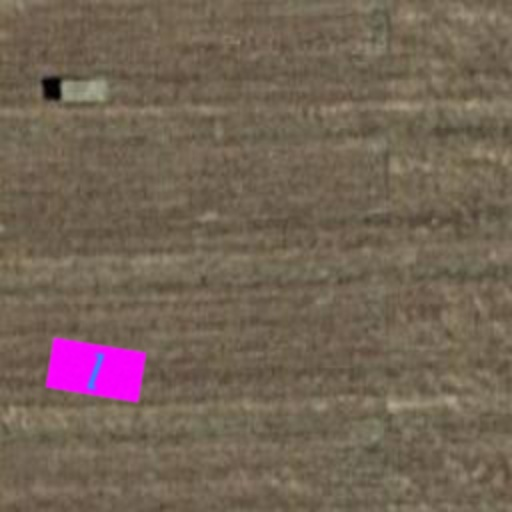rectangle: (40, 314, 152, 426)
